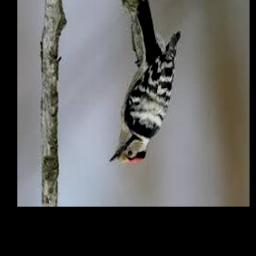Woodpecker: (109, 0, 181, 165)
